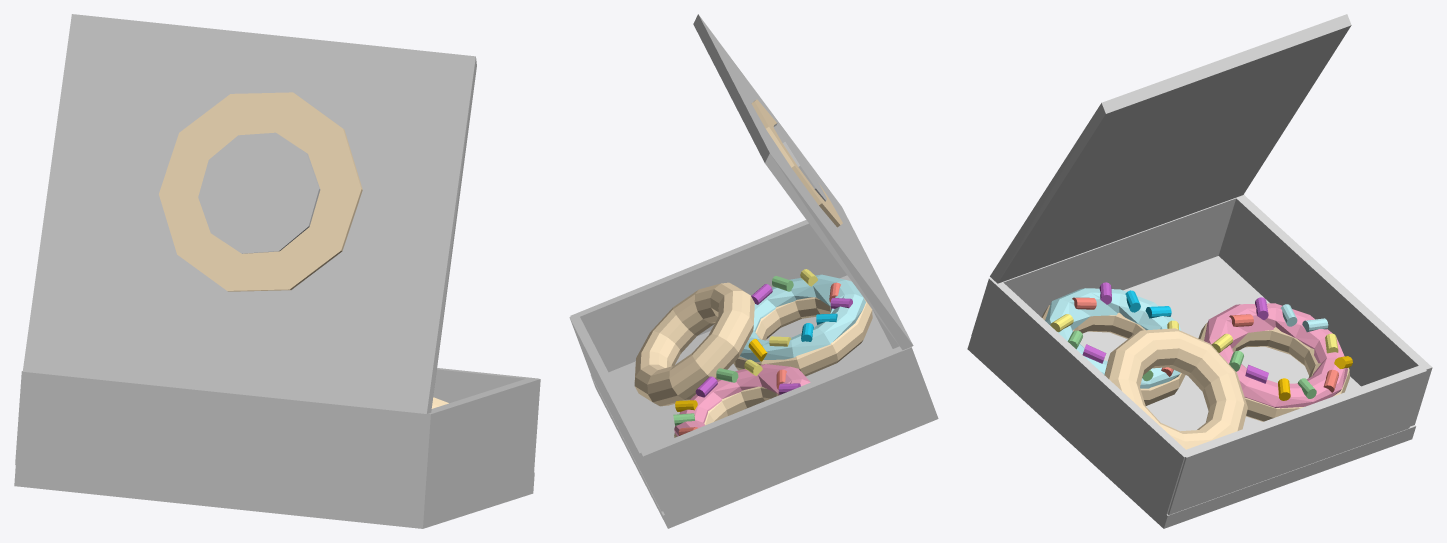
Rendered from donuts.gltf.
The picture shows the model from 3 angles, left to right: view 1: azimuth 30°, elevation 25°; view 2: azimuth 150°, elevation 25°; view 3: azimuth 270°, elevation 25°; orthographic projection. The views are drawn at different scales.
Visible parts, largest first — view 1: mesh1085159625; view 2: mesh1085159625; view 3: mesh1085159625.
Part boxes in pixels (left/top/right/bottom): mesh1085159625: left=14, top=14, right=540, bottom=528; mesh1085159625: left=569, top=14, right=938, bottom=528; mesh1085159625: left=967, top=14, right=1432, bottom=528.
Size of the model in its own units: 0.5578 by 0.5256 by 0.5584.
